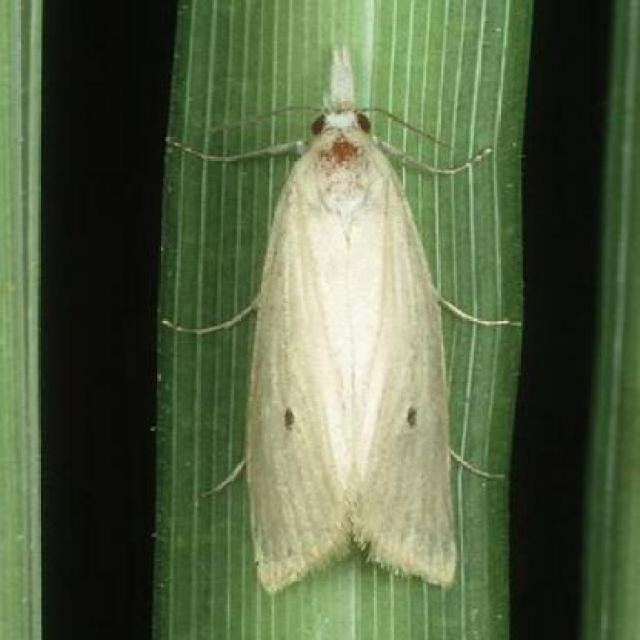stem-borer: (194, 42, 468, 596)
